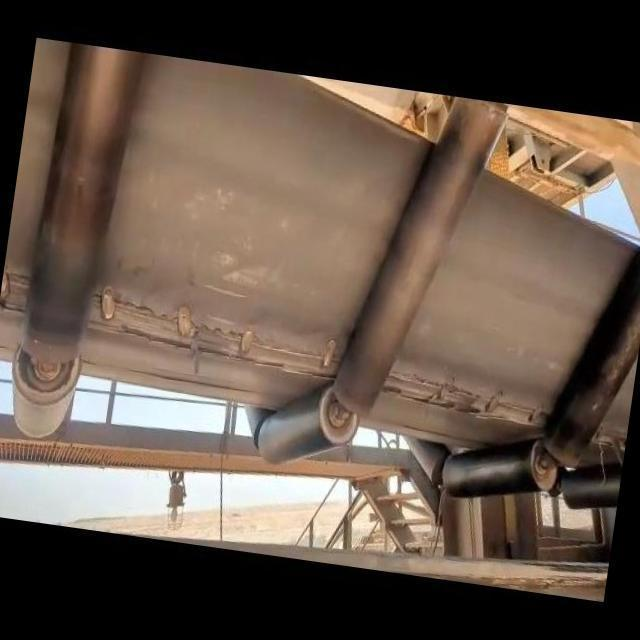Tear: (90, 272, 340, 390), (380, 358, 553, 437), (0, 260, 39, 319)
